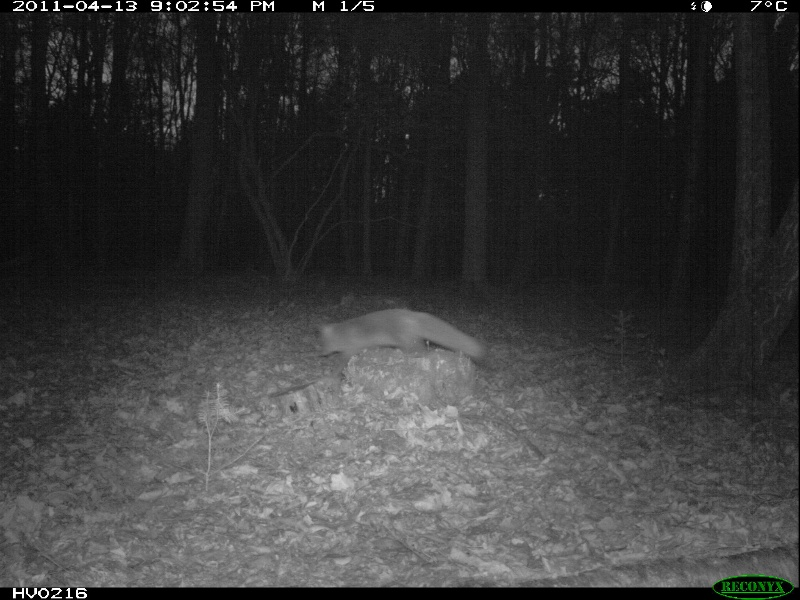fox: (318, 308, 493, 388)
